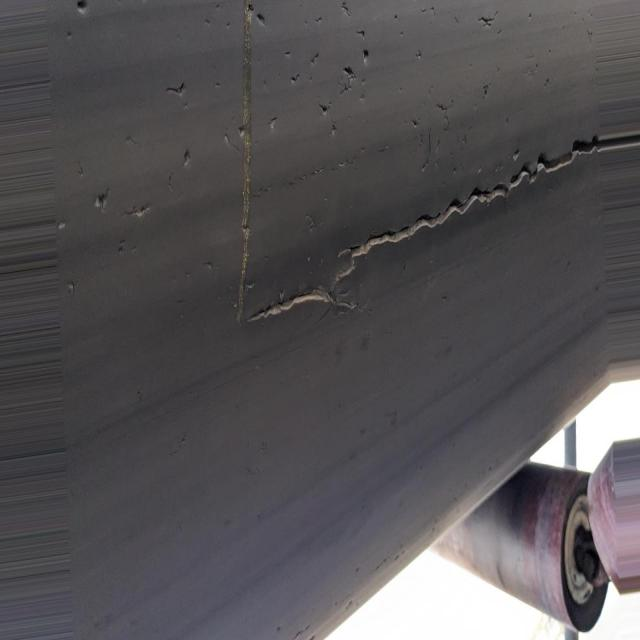Puncture: (84, 176, 168, 242), (166, 63, 197, 109), (67, 0, 101, 22), (180, 135, 195, 182)
Roller: (431, 459, 604, 639)
Tear: (235, 1, 638, 333)
